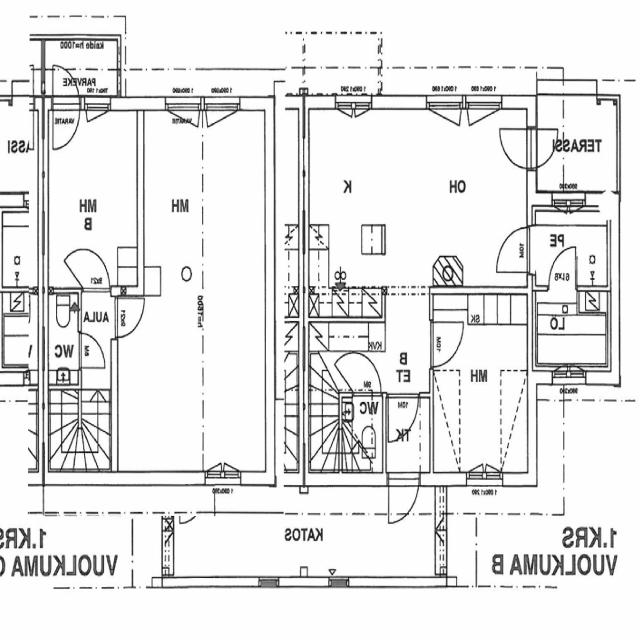door: (389, 471, 419, 529), (498, 228, 536, 272), (429, 322, 463, 366), (53, 95, 79, 148), (53, 57, 79, 110), (502, 129, 537, 167), (528, 129, 563, 167), (390, 392, 418, 438), (111, 298, 144, 336), (354, 352, 380, 398), (83, 249, 110, 293), (550, 247, 576, 291), (78, 333, 105, 368)
